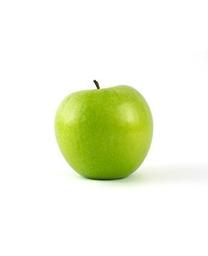apple: (53, 82, 153, 180)
